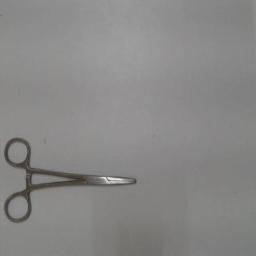Mayo Needle Holder: (2, 133, 146, 229)
